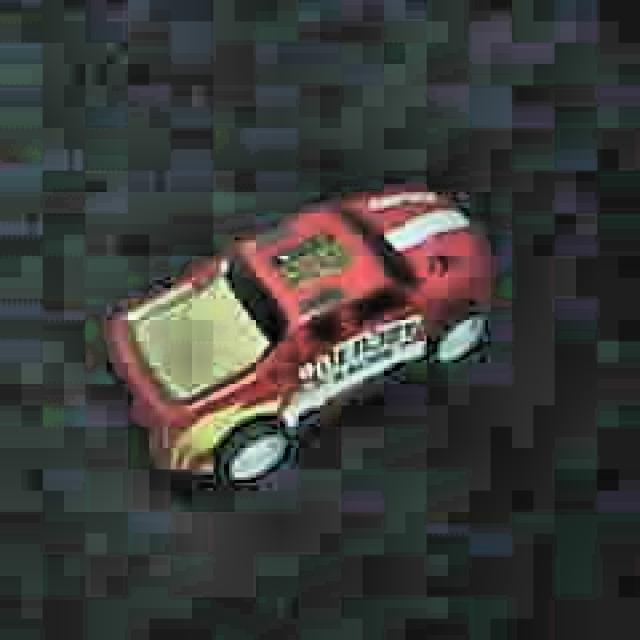car: (98, 181, 499, 498)
